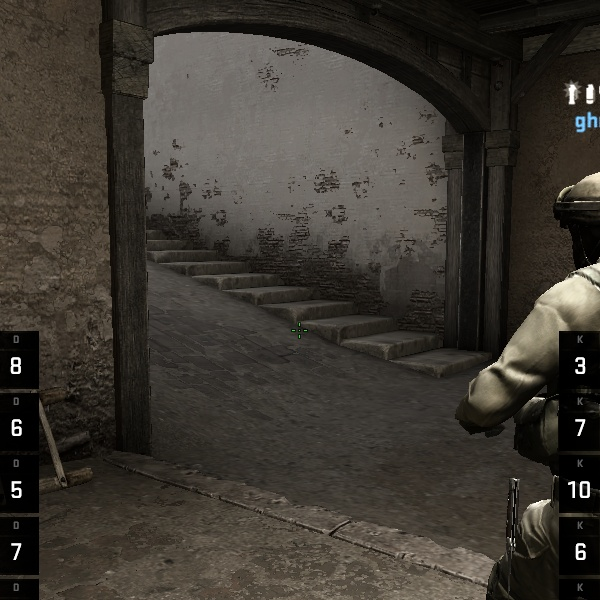ct_body: (434, 141, 593, 600)
ct_head: (538, 161, 599, 287)
